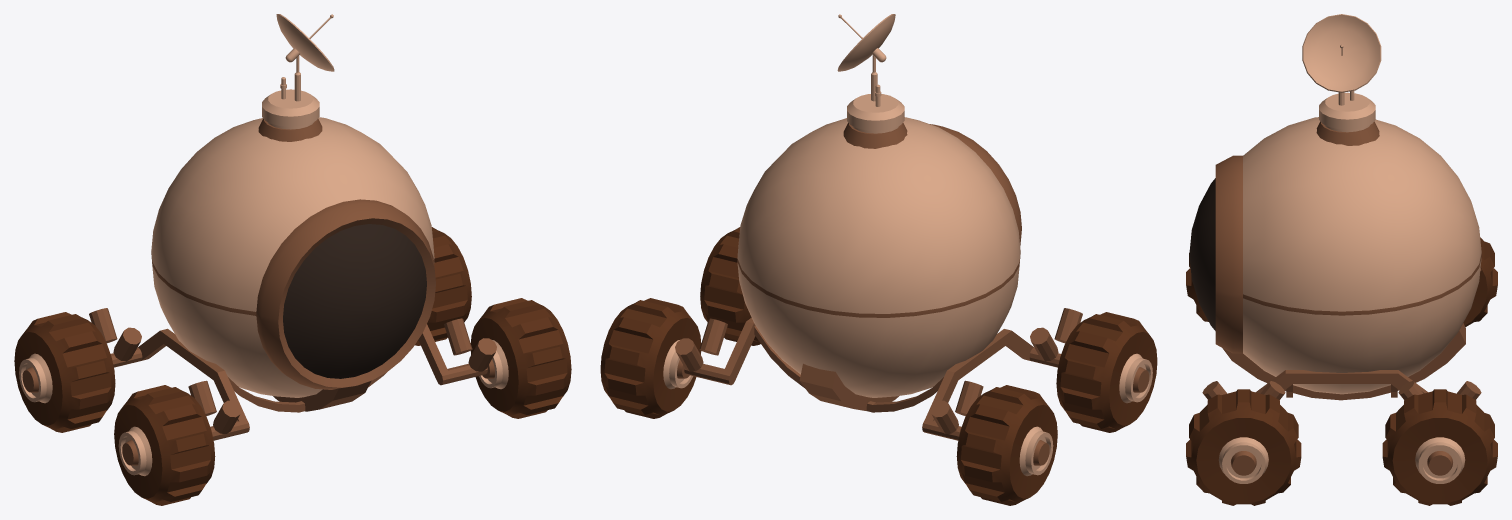
File: rover_round.glb
3 renders of one model, left to right at view 1: azimuth 30°, elevation 25°; view 2: azimuth 150°, elevation 25°; view 3: azimuth 270°, elevation 25°, orthographic.
Visible parts, largest first — view 1: Wheel_1; view 2: Wheel_1; view 3: Wheel_1.
Boxes of the visible parts, bbox=[...] form: Wheel_1: bbox=[14, 14, 571, 505]; Wheel_1: bbox=[600, 14, 1157, 505]; Wheel_1: bbox=[1186, 14, 1497, 505].
Bounding box in the file's own units: 5.79 × 5.17 × 3.69.
1 material, 1 textured.
